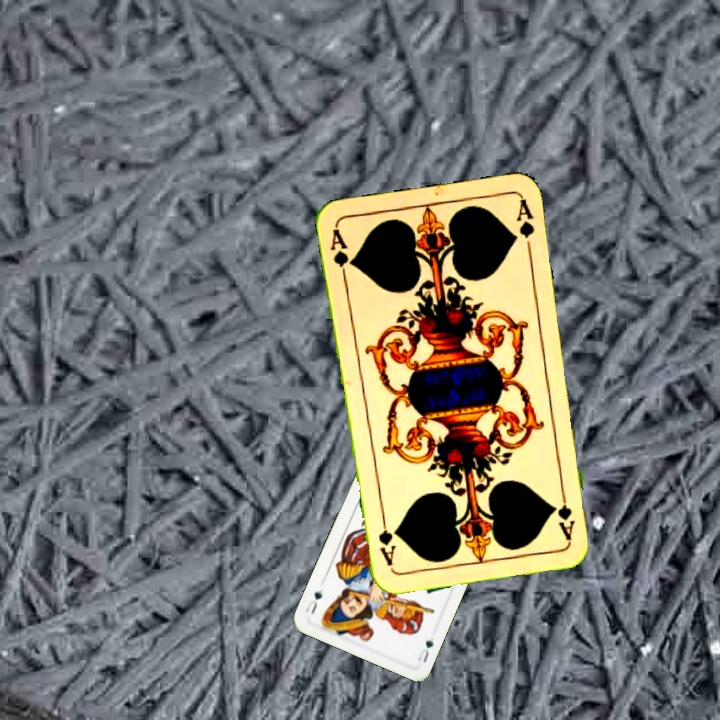GA: (326, 224, 356, 283), (553, 483, 578, 543)
GU: (414, 636, 436, 666)
